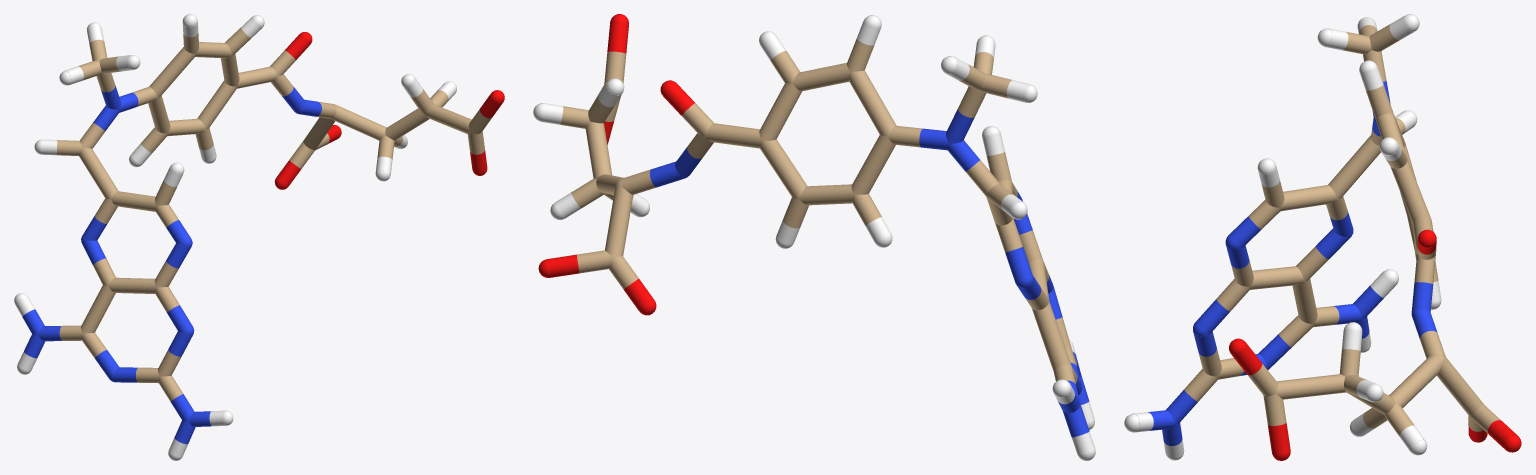
File: hydrogenMTX.dae
3 renders of one model, left to right at view 1: azimuth 30°, elevation 25°; view 2: azimuth 150°, elevation 25°; view 3: azimuth 270°, elevation 25°, orthographic. The views are drawn at different scales.
Visible parts, largest first — view 1: subnode_69, subnode_94, subnode_84, subnode_62, subnode_81, subnode_65, subnode_100, subnode_68, subnode_99, subnode_82, subnode_93, subnode_86 (+2 smaller); view 2: subnode_84, subnode_93, subnode_62, subnode_85, subnode_81, subnode_80, subnode_83, subnode_99, subnode_82, subnode_86, subnode_97, subnode_66 (+14 smaller); view 3: subnode_100, subnode_69, subnode_94, subnode_80, subnode_93, subnode_68, subnode_65, subnode_62, subnode_52, subnode_103, subnode_54, subnode_53 (+29 smaller).
Boxes of the visible parts, left/top/right/bottom form: subnode_69: left=79, top=148, right=118, bottom=198; subnode_94: left=332, top=105, right=386, bottom=140; subnode_84: left=149, top=47, right=195, bottom=97; subnode_62: left=81, top=285, right=115, bottom=333; subnode_81: left=197, top=80, right=236, bottom=129; subnode_65: left=108, top=277, right=156, bottom=293; subnode_100: left=425, top=104, right=471, bottom=134; subnode_68: left=111, top=191, right=156, bottom=211; subnode_99: left=385, top=108, right=429, bottom=140; subnode_82: left=237, top=66, right=277, bottom=88; subnode_93: left=303, top=117, right=335, bottom=149; subnode_86: left=167, top=118, right=205, bottom=136; subnode_84: left=848, top=70, right=896, bottom=135; subnode_93: left=605, top=185, right=633, bottom=257; subnode_62: left=1031, top=300, right=1071, bottom=371; subnode_85: left=851, top=135, right=895, bottom=194; subnode_81: left=759, top=139, right=807, bottom=198; subnode_80: left=759, top=83, right=801, bottom=141; subnode_83: left=792, top=63, right=850, bottom=91; subnode_99: left=585, top=121, right=612, bottom=178; subnode_82: left=705, top=123, right=761, bottom=148; subnode_86: left=799, top=184, right=853, bottom=205; subnode_97: left=577, top=250, right=612, bottom=273; subnode_66: left=1005, top=247, right=1032, bottom=282; subnode_100: left=1276, top=374, right=1346, bottom=399; subnode_69: left=1328, top=135, right=1380, bottom=198; subnode_94: left=1389, top=355, right=1443, bottom=408; subnode_80: left=1390, top=158, right=1430, bottom=223; subnode_93: left=1436, top=357, right=1484, bottom=417; subnode_68: left=1280, top=185, right=1336, bottom=211; subnode_65: left=1250, top=266, right=1304, bottom=289; subnode_62: left=1292, top=278, right=1317, bottom=323; subnode_52: left=1195, top=299, right=1229, bottom=334; subnode_103: left=1263, top=394, right=1286, bottom=425; subnode_54: left=1184, top=369, right=1218, bottom=401; subnode_53: left=1216, top=278, right=1250, bottom=311.
Bounding box in the file's own units: 13.4 × 10.58 × 8.38.
